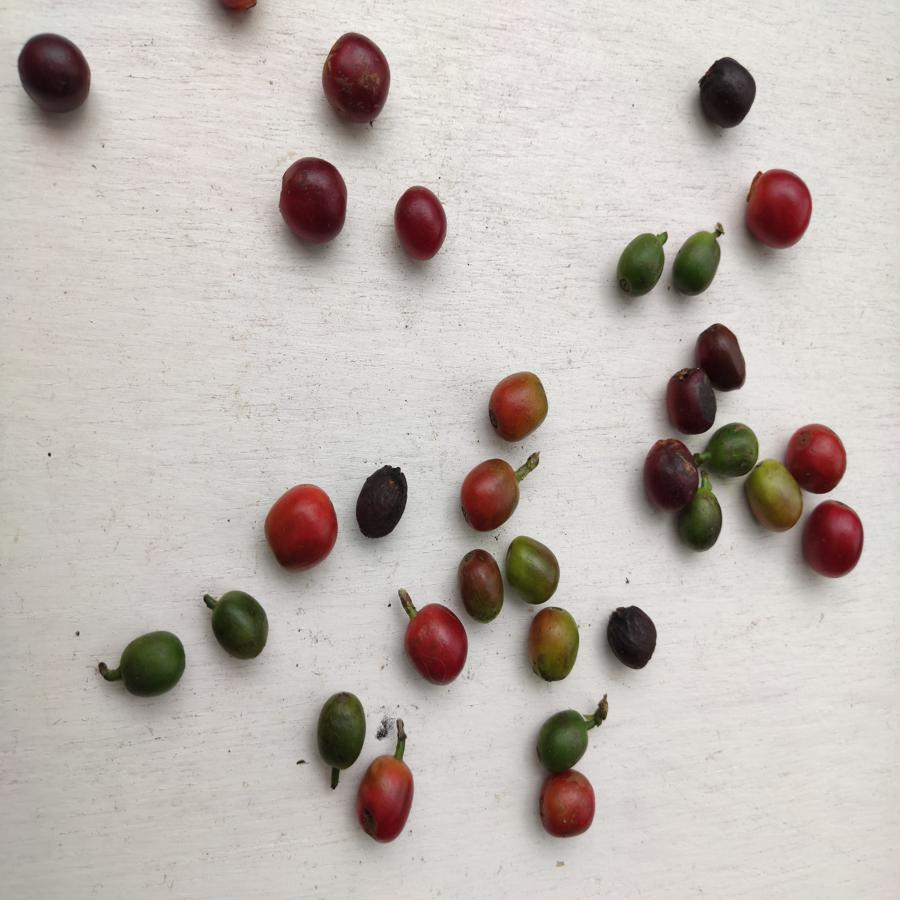Inmaduro: (204, 585, 273, 664), (114, 629, 185, 700), (316, 691, 364, 769), (672, 230, 727, 298), (535, 712, 592, 773), (614, 231, 666, 296), (686, 493, 731, 550), (708, 425, 756, 472)
Maduro: (263, 482, 339, 571), (356, 753, 417, 847), (801, 498, 867, 583), (748, 167, 813, 253), (401, 605, 469, 686), (459, 454, 525, 534), (537, 771, 599, 840), (790, 422, 848, 495)
Pinton: (486, 369, 553, 444), (499, 537, 567, 601), (528, 608, 583, 686), (743, 464, 798, 535), (456, 549, 504, 619)
Sobremaduro: (313, 33, 395, 126), (274, 154, 351, 248), (17, 31, 95, 113), (392, 180, 450, 268), (356, 464, 411, 544), (698, 58, 760, 127), (642, 435, 697, 507), (604, 601, 660, 671), (664, 366, 718, 436), (697, 325, 750, 393)
